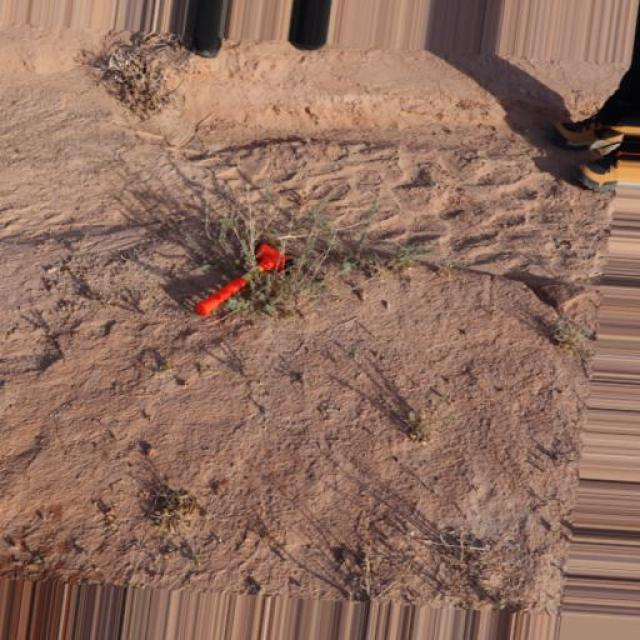mallet: (192, 240, 288, 318)
